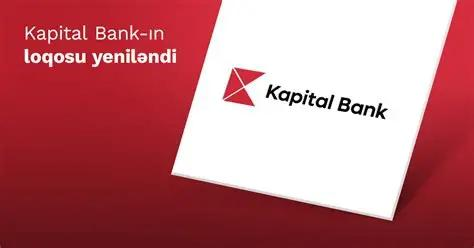Kapital Bank: (221, 63, 268, 106)
